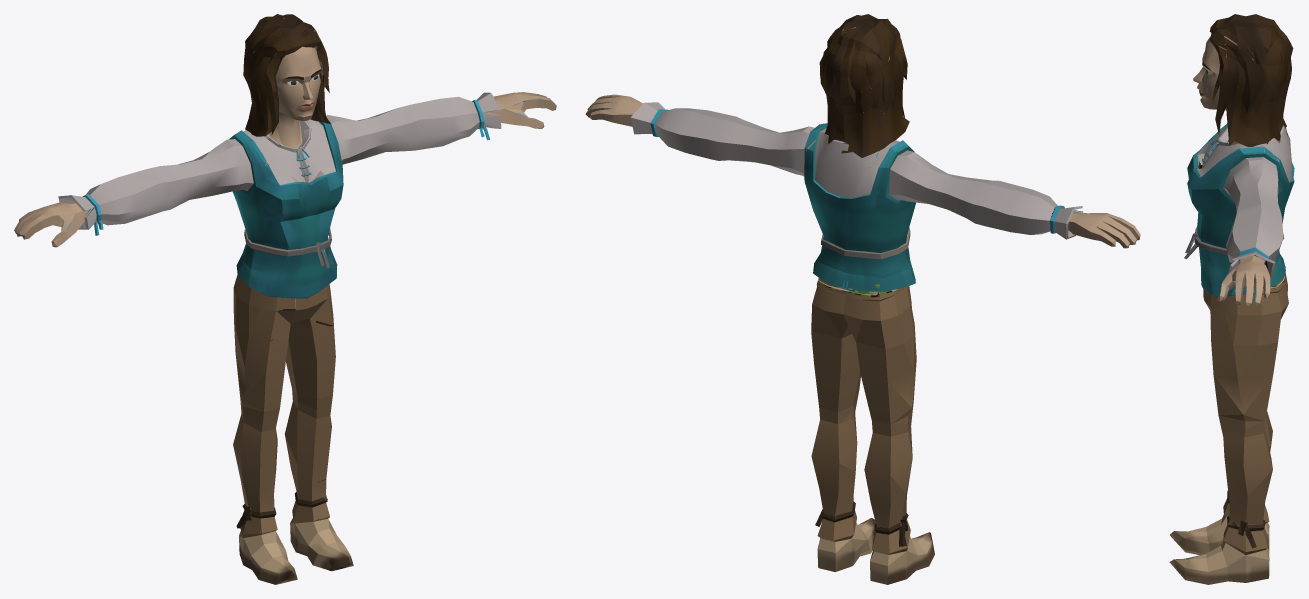
The model's file is Frau2.fbx.
3 renders of one model, left to right at view 1: azimuth 30°, elevation 25°; view 2: azimuth 150°, elevation 25°; view 3: azimuth 270°, elevation 25°, orthographic. The views are drawn at different scales.
Visible parts, largest first — view 1: PT_Female_Peasant_01_upper_short, PT_Male_Peasant_01_lower, PT_Female_Naked_head; view 2: PT_Female_Peasant_01_upper_short, PT_Male_Peasant_01_lower, PT_Female_Naked_head; view 3: PT_Male_Peasant_01_lower, PT_Female_Peasant_01_upper_short, PT_Female_Naked_head.
Boxes of the visible parts, left/top/right/bottom form: PT_Female_Peasant_01_upper_short: left=14, top=92, right=556, bottom=298; PT_Male_Peasant_01_lower: left=233, top=275, right=353, bottom=584; PT_Female_Naked_head: left=243, top=14, right=330, bottom=148; PT_Female_Peasant_01_upper_short: left=585, top=94, right=1140, bottom=291; PT_Male_Peasant_01_lower: left=811, top=278, right=934, bottom=584; PT_Female_Naked_head: left=819, top=14, right=909, bottom=157; PT_Male_Peasant_01_lower: left=1169, top=266, right=1288, bottom=584; PT_Female_Peasant_01_upper_short: left=1184, top=123, right=1294, bottom=306; PT_Female_Naked_head: left=1193, top=14, right=1293, bottom=146.
Size of the model in its own units: 192 by 184 by 38.3.
Materials: 3 (3 with a texture image).
